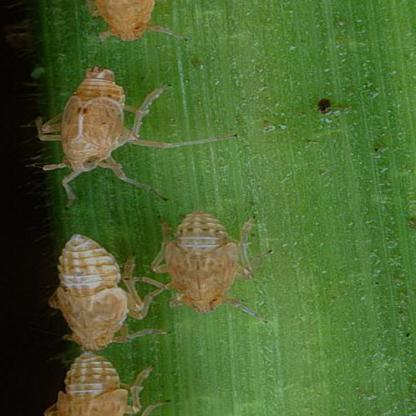brown-planthopper: (40, 63, 162, 200), (36, 232, 144, 350), (153, 210, 253, 315), (50, 355, 146, 416), (85, 0, 180, 42)
